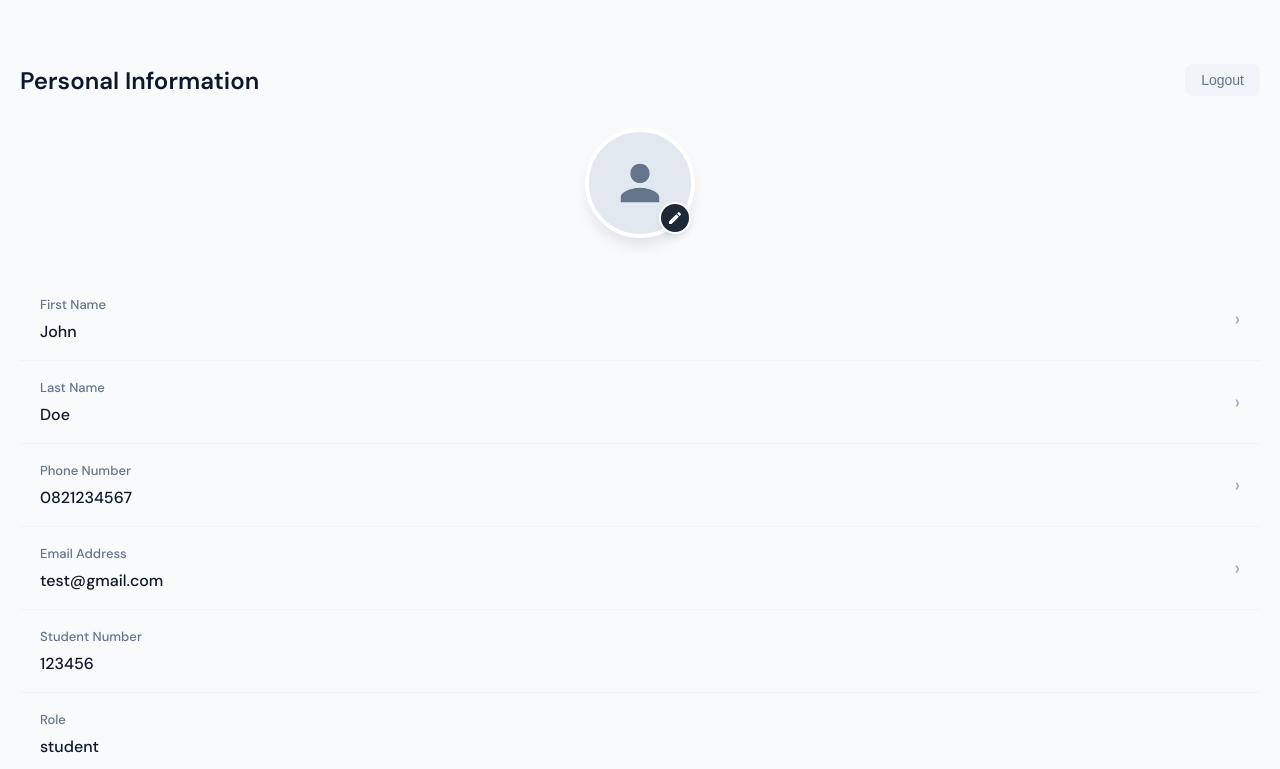
Test: Profile Component › Edit mode › shows success message after save
The width and height of the screenshot is (1280, 769).
Step 1. Click the text "John" → (58, 332), box [40, 321, 77, 342]
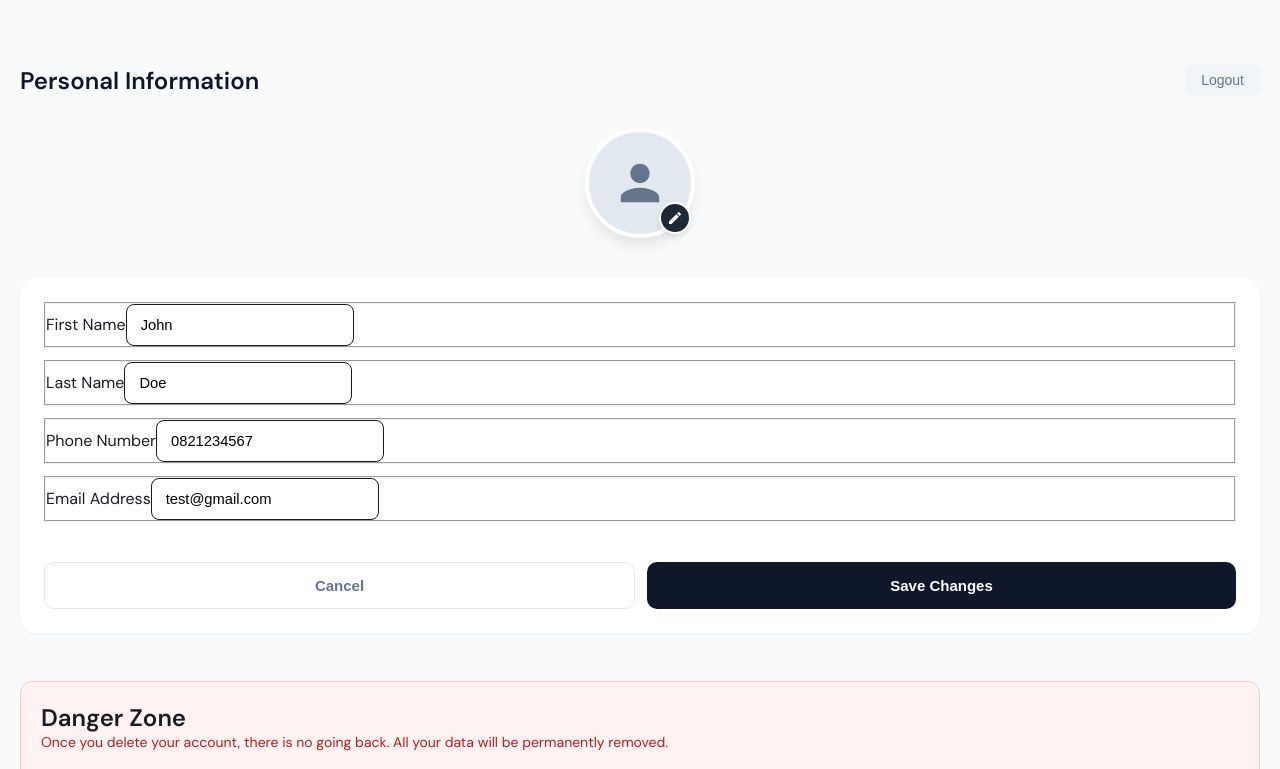
Step 2. Click the button "Save Changes" → (942, 586), box [647, 562, 1236, 609]
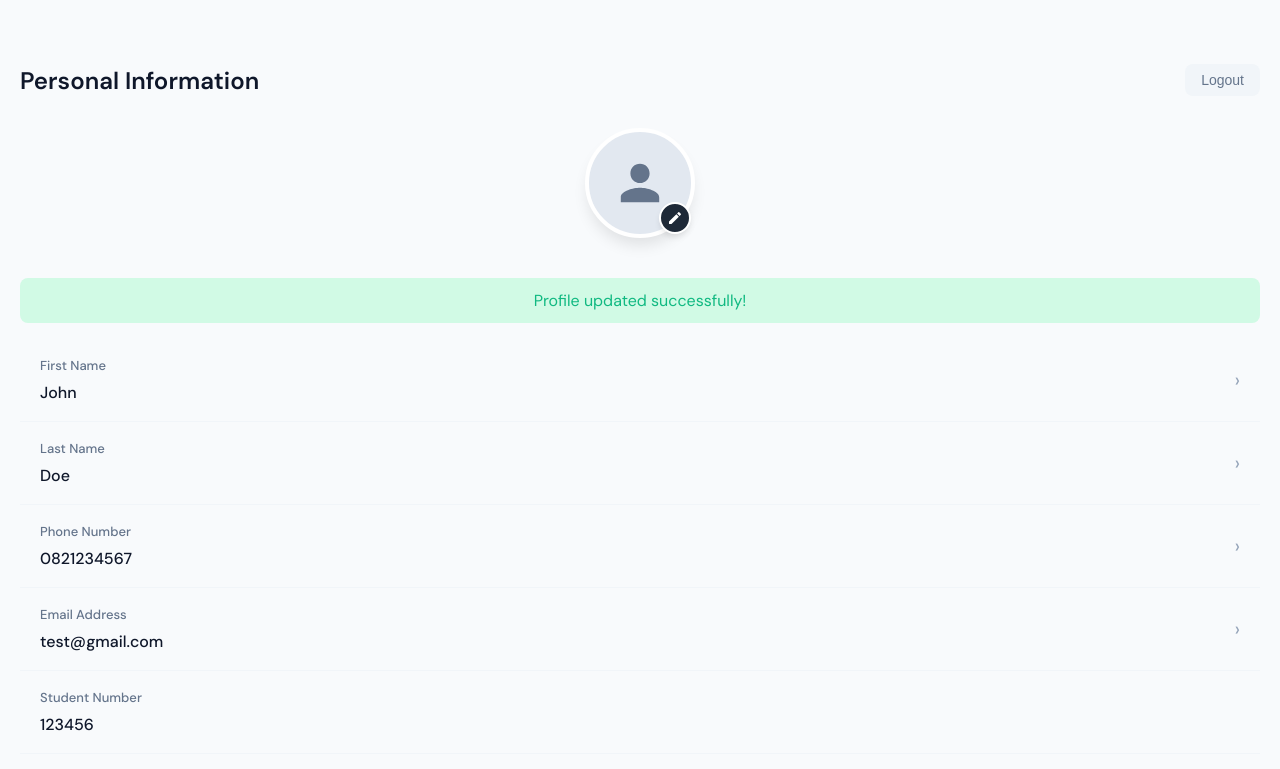
Now the text "Profile updated successfully!" is shown, box [20, 278, 1260, 323]
